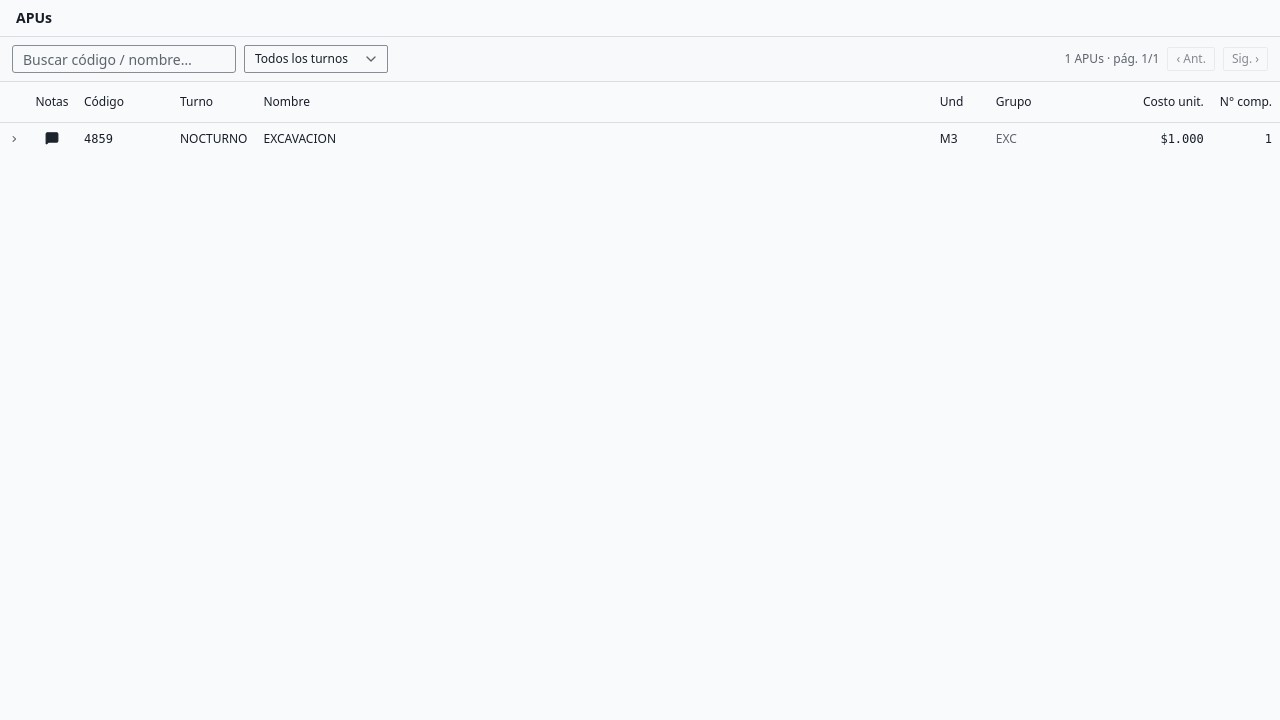
Test: el ícono abre las notas del APU por turno sin expandir la fila
Click the button named "Notas": point(52, 138) [42,128,62,148]
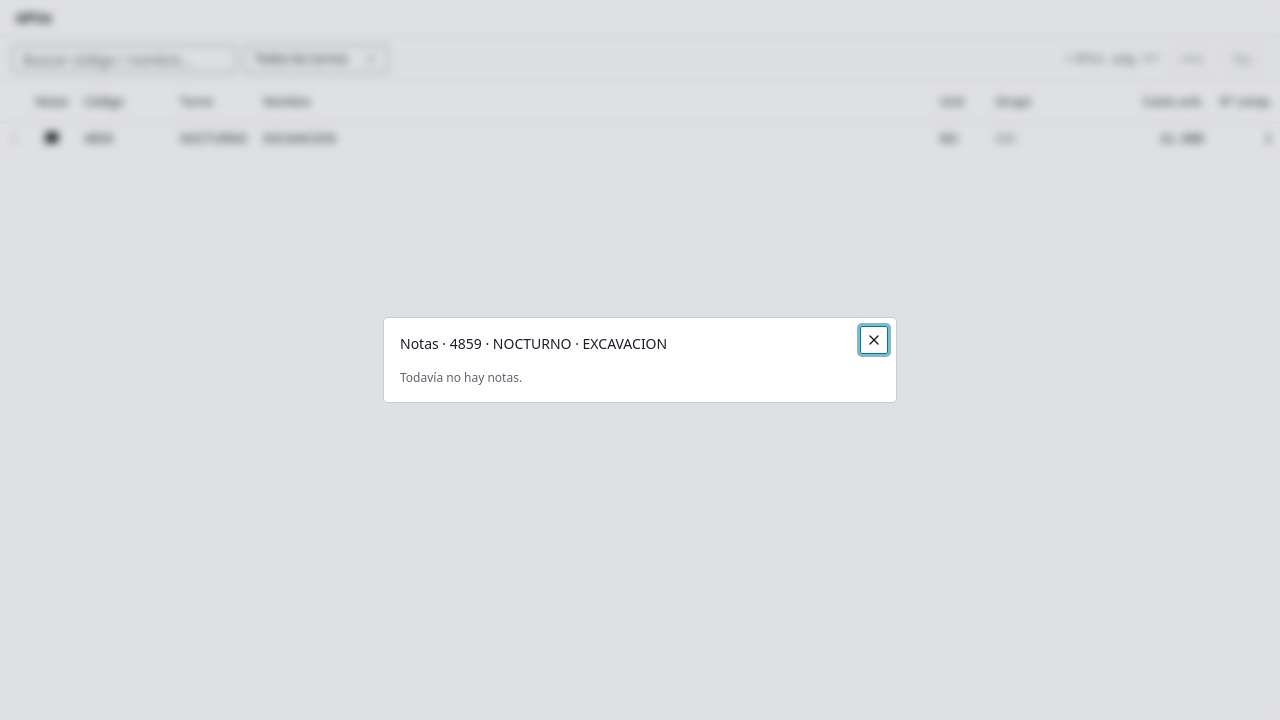
Now the heading "Notas · 4859 · NOCTURNO · EXCAVACION" is shown, box [400,334,667,353]
